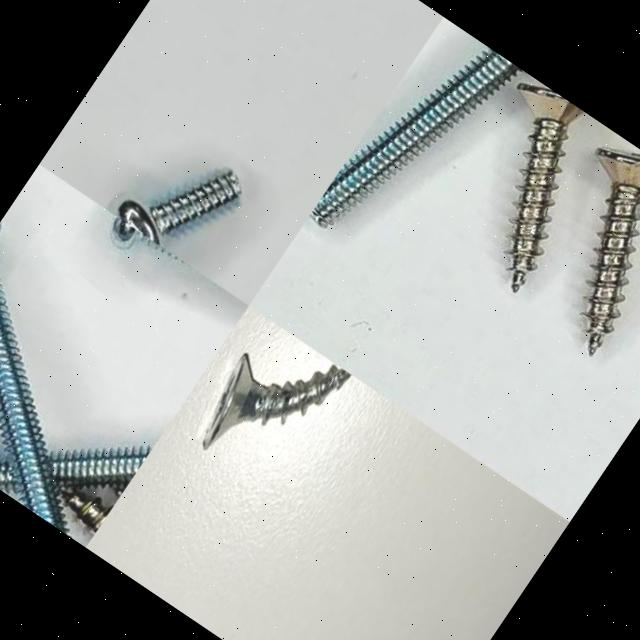Screw: (310, 46, 520, 226), (0, 289, 70, 538), (511, 83, 585, 292), (201, 355, 351, 450), (583, 147, 640, 356), (107, 170, 240, 248), (48, 447, 154, 489), (0, 457, 14, 492)
